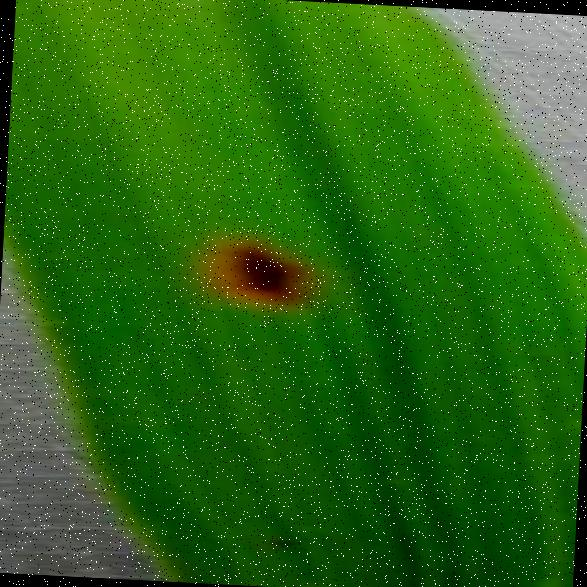Brown_Spot: (198, 216, 326, 322), (254, 522, 309, 562)
